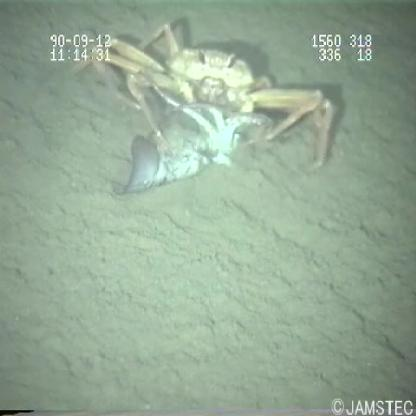Bio: (62, 17, 344, 204)
